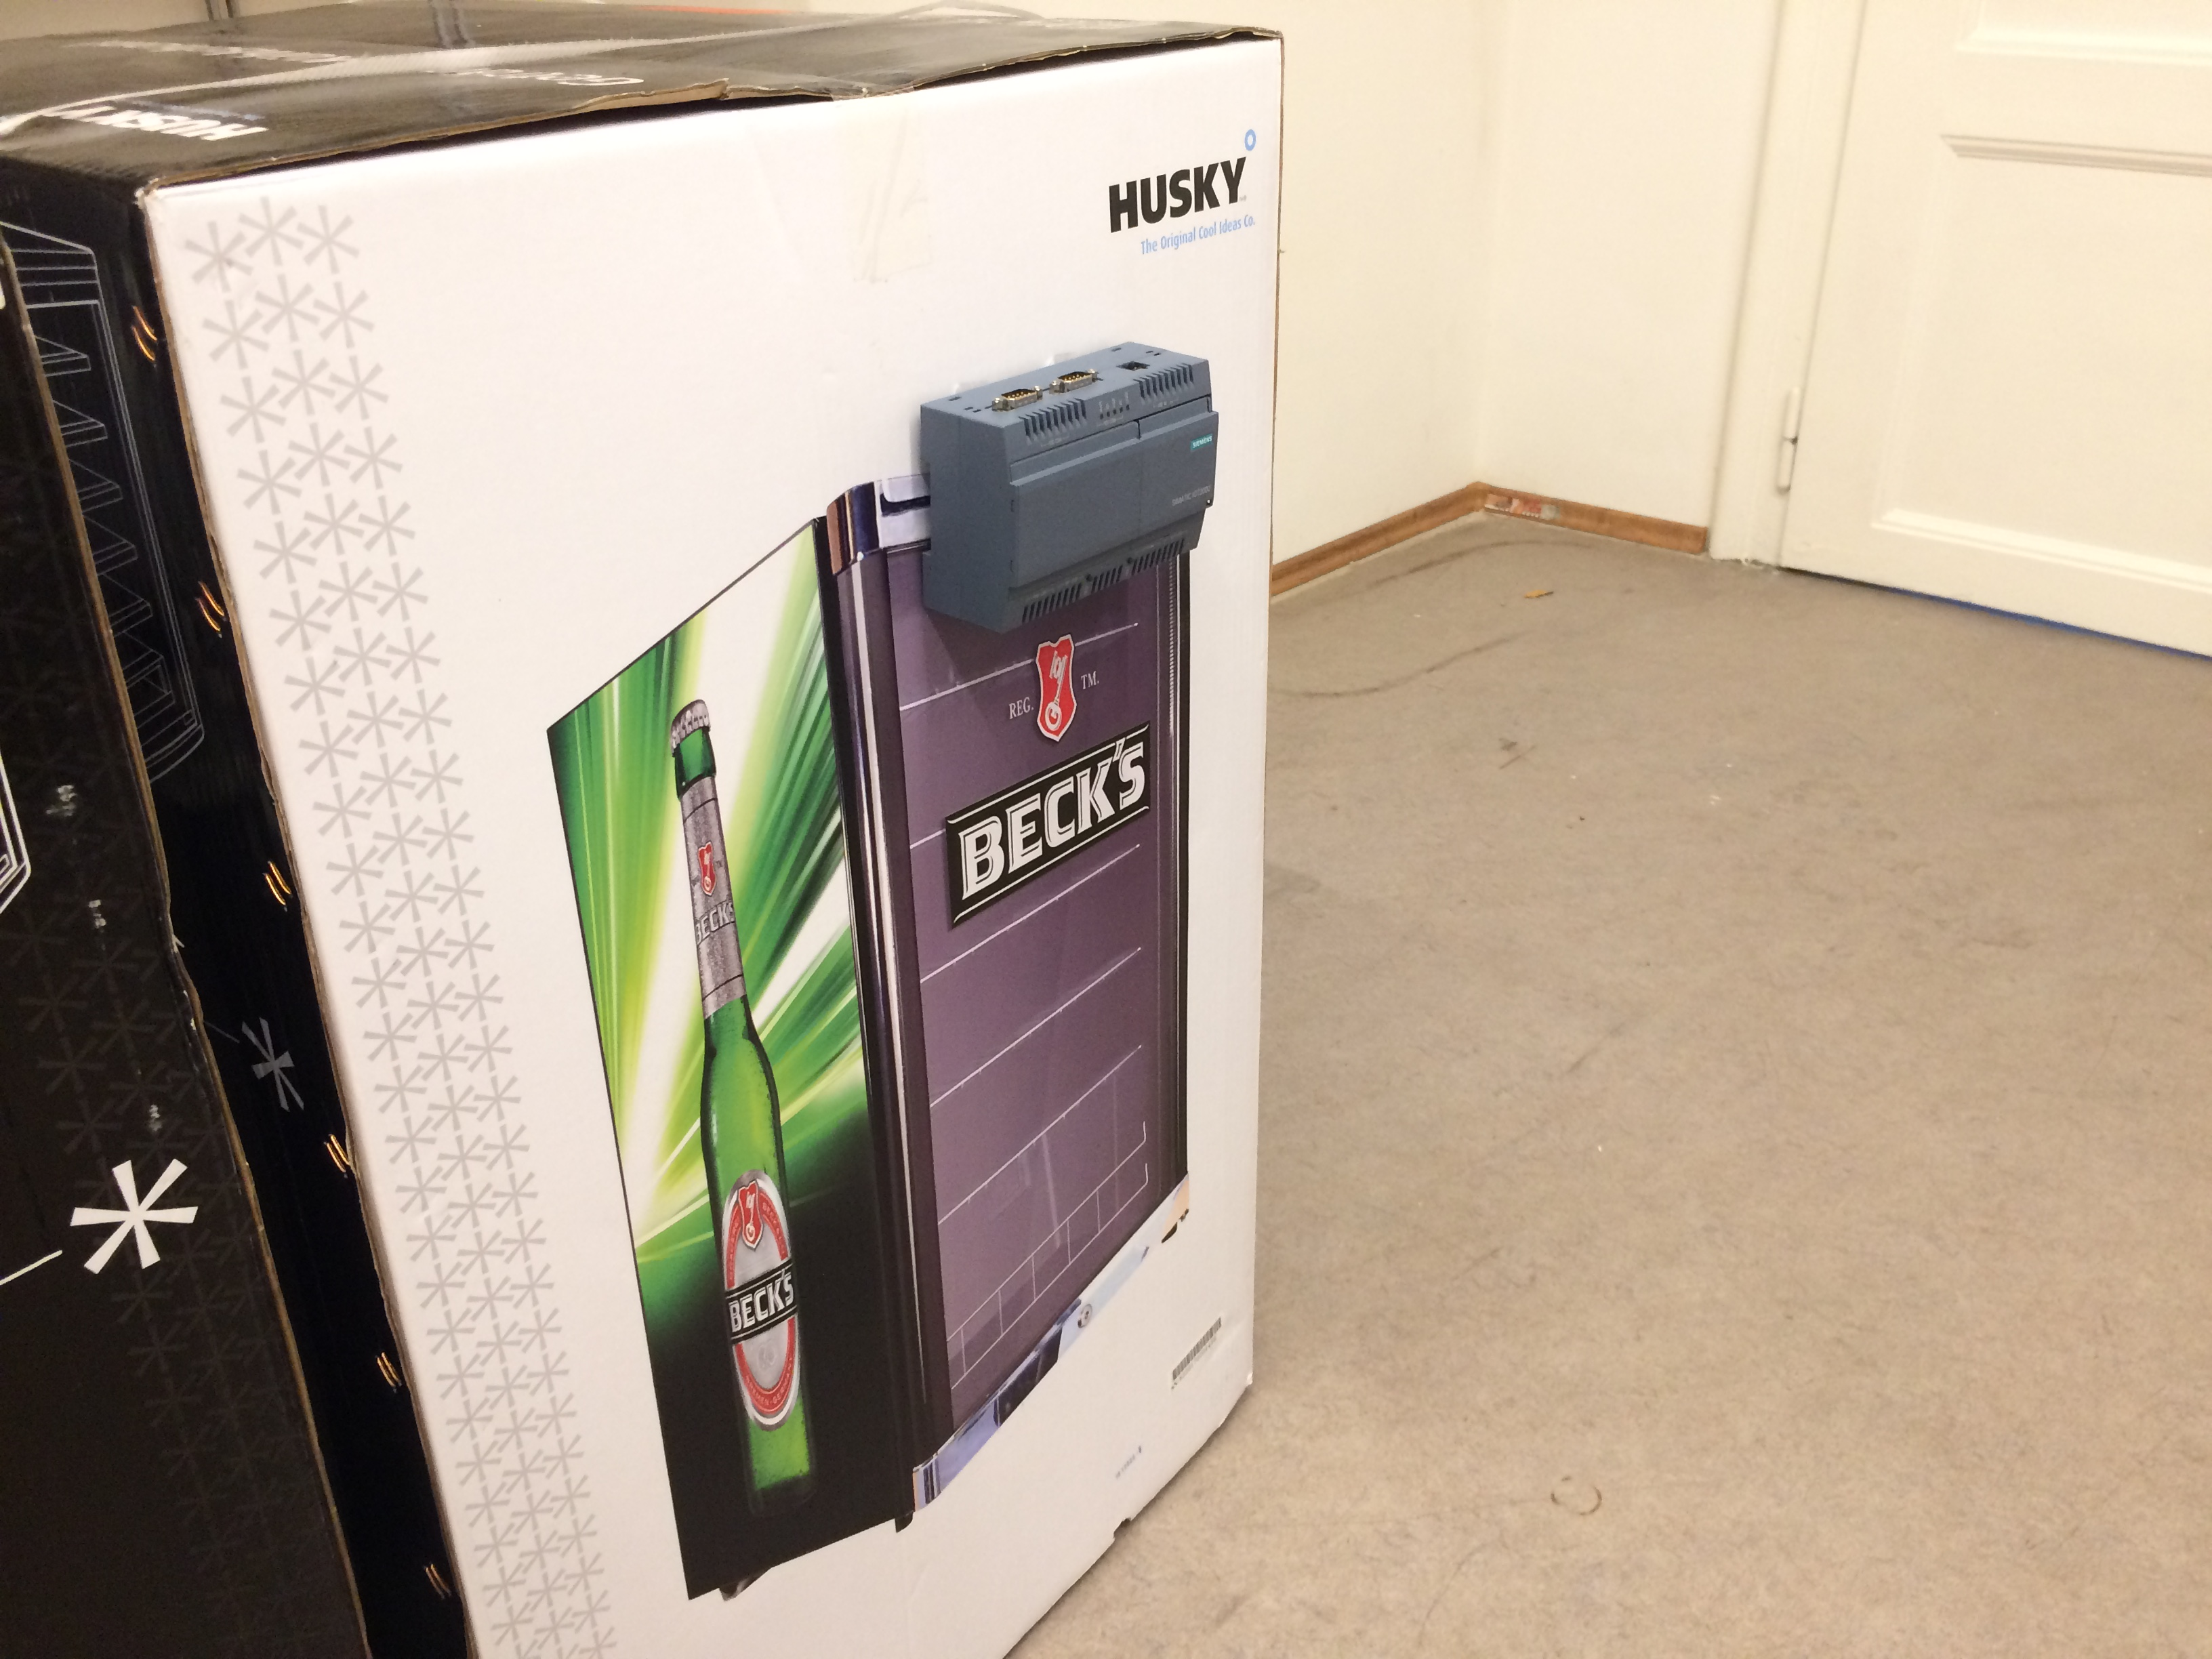iot2000: (916, 340, 1221, 640)
